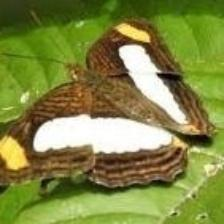butterfly: (0, 19, 214, 188)
